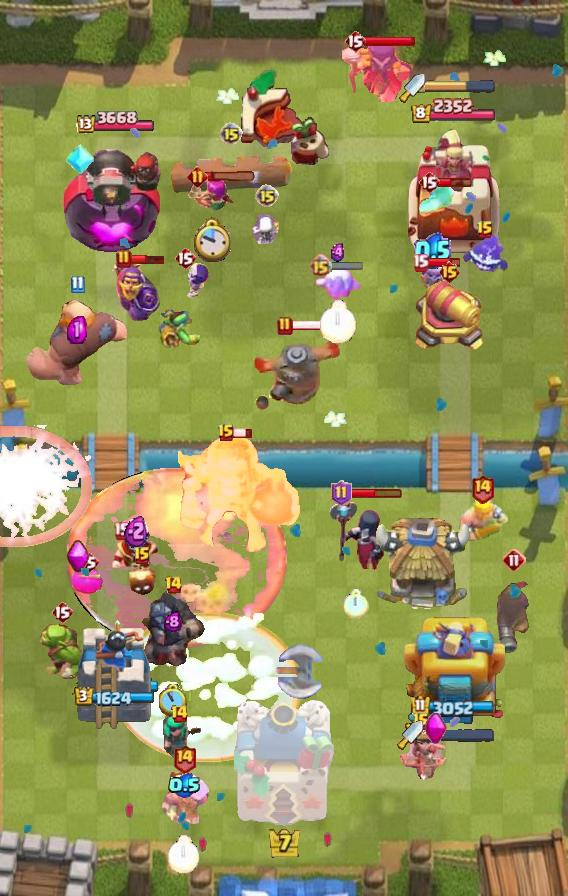archer: (187, 176, 235, 222)
axe: (269, 643, 325, 701)
bar: (350, 487, 403, 499), (364, 35, 416, 47), (291, 320, 345, 331), (205, 171, 257, 182), (426, 256, 461, 269), (437, 176, 473, 188), (130, 254, 166, 265), (329, 260, 364, 271), (233, 427, 253, 439)
bar-level: (172, 743, 197, 774), (470, 473, 495, 504), (502, 548, 526, 572), (255, 184, 279, 208), (219, 122, 243, 146), (438, 260, 461, 284), (331, 480, 352, 506), (309, 254, 332, 277), (51, 600, 73, 624), (77, 550, 99, 574), (174, 246, 196, 270), (418, 170, 440, 194), (344, 29, 366, 53), (187, 166, 208, 187), (170, 704, 189, 724), (164, 575, 183, 595), (412, 712, 430, 732), (133, 546, 151, 566), (217, 423, 235, 443), (476, 220, 494, 240), (113, 521, 130, 540), (412, 253, 429, 272), (277, 316, 293, 336), (116, 249, 132, 269), (70, 275, 85, 294)
barbarian: (455, 499, 509, 547)
bat-evolution: (415, 180, 467, 216)
cannoneer-tower: (62, 138, 166, 256)
clock: (192, 217, 231, 264), (320, 300, 357, 343), (168, 835, 200, 873), (159, 684, 188, 716), (343, 589, 369, 619)
dagger-duchess-tower: (403, 124, 503, 256), (401, 611, 505, 731)
dagger-duchess-tower-bar: (423, 728, 495, 742), (425, 80, 495, 94)
electro-spirit: (462, 234, 508, 278)
electro-wizard: (111, 529, 161, 581)
elixir: (414, 232, 451, 269), (168, 773, 201, 798), (124, 514, 148, 548), (67, 316, 87, 344), (164, 611, 182, 632), (329, 243, 347, 262)
elixir-golem-small: (72, 564, 104, 594)
evolution-symbol: (424, 712, 448, 747), (66, 540, 90, 574)
fire-spirit: (128, 568, 156, 598)
goblin-brawler: (34, 621, 90, 679)
ice-spirit-evolution: (313, 265, 363, 303)
ice-spirit-evolution-symbol: (66, 142, 94, 176)
king-tower: (234, 700, 334, 826)
knight-evolution: (112, 257, 161, 322)
lumberjack: (157, 772, 211, 826)
musketeer: (495, 577, 533, 655)
night-witch: (326, 498, 386, 572)
princess: (395, 722, 447, 780)
queen-tower: (70, 616, 158, 731)
rascal-girl: (156, 714, 202, 772)
skeleton: (250, 211, 284, 247)
skeleton-evolution: (416, 260, 448, 300), (186, 262, 212, 298)
spear-goblin: (157, 307, 205, 349)
the-log: (167, 150, 295, 196)
tower-bar: (410, 98, 497, 125), (74, 111, 154, 136), (411, 695, 495, 717), (74, 686, 155, 707)
witch: (330, 40, 414, 102)
